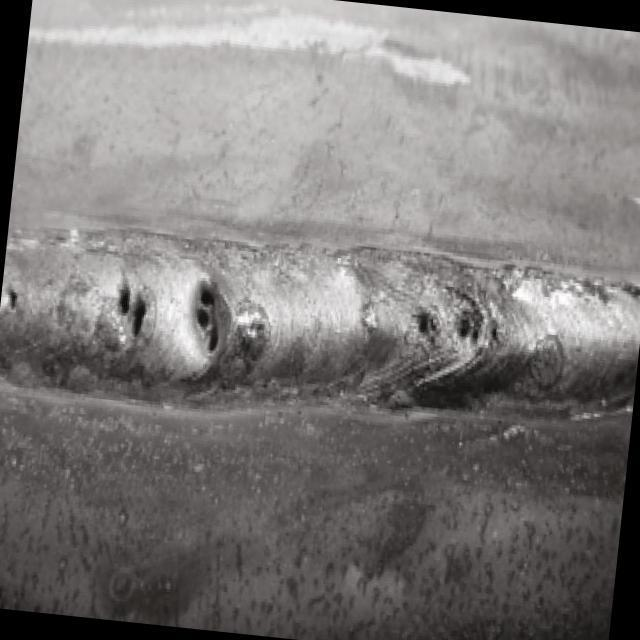defect: (188, 268, 234, 375), (111, 264, 155, 356), (453, 287, 505, 360), (408, 296, 442, 355), (1, 285, 24, 322)
